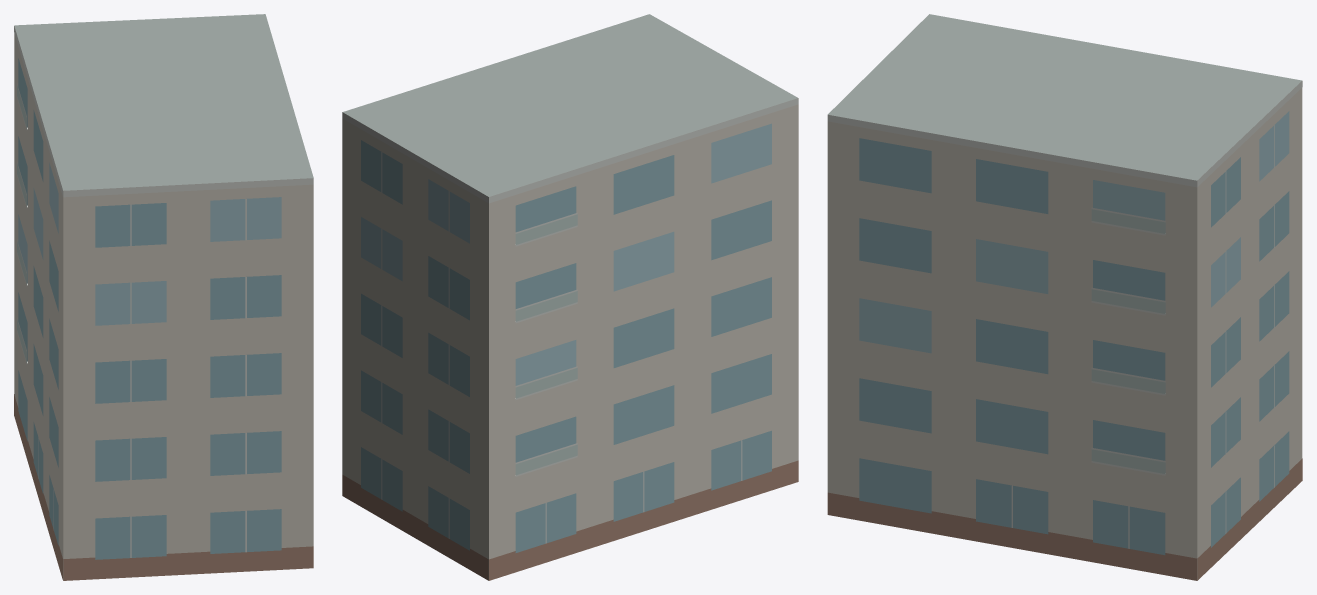
The model's file is survey-upis-32891022.glb.
3 views of the same model, side by side, from view 1: azimuth 30°, elevation 25°; view 2: azimuth 150°, elevation 25°; view 3: azimuth 270°, elevation 25° (orthographic). The views are drawn at different scales.
Parts seen in each view (by area): view 1: survey-upis-32891022.tmp; view 2: survey-upis-32891022.tmp; view 3: survey-upis-32891022.tmp.
Part boxes in pixels (x1=…): survey-upis-32891022.tmp: x1=14, y1=14, x2=313, y2=580; survey-upis-32891022.tmp: x1=342, y1=14, x2=798, y2=580; survey-upis-32891022.tmp: x1=827, y1=14, x2=1302, y2=580.
Bounding box in the file's own units: 13.14 × 14.7 × 15.82.
